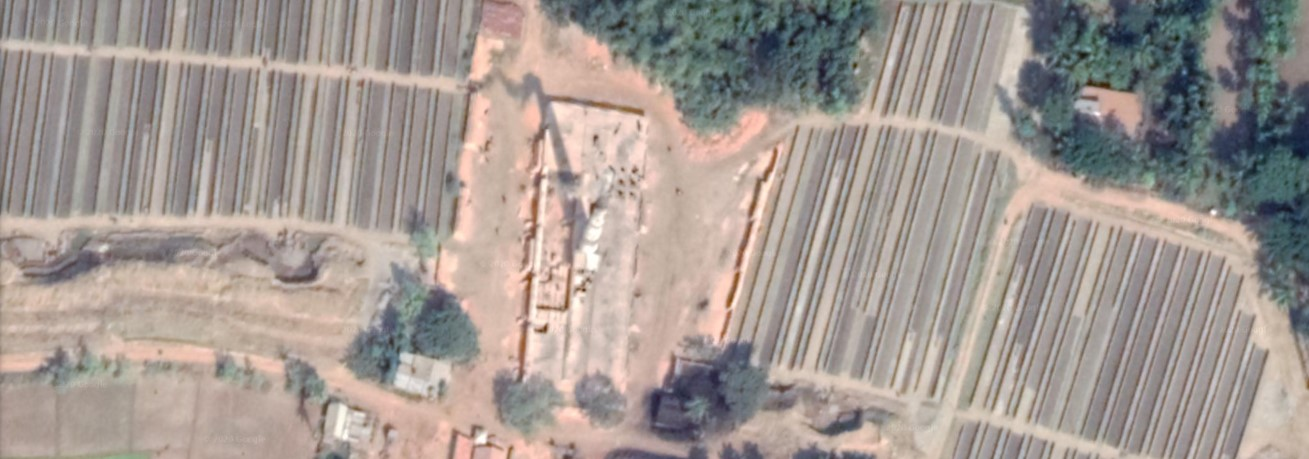kiln: (496, 80, 653, 377)
